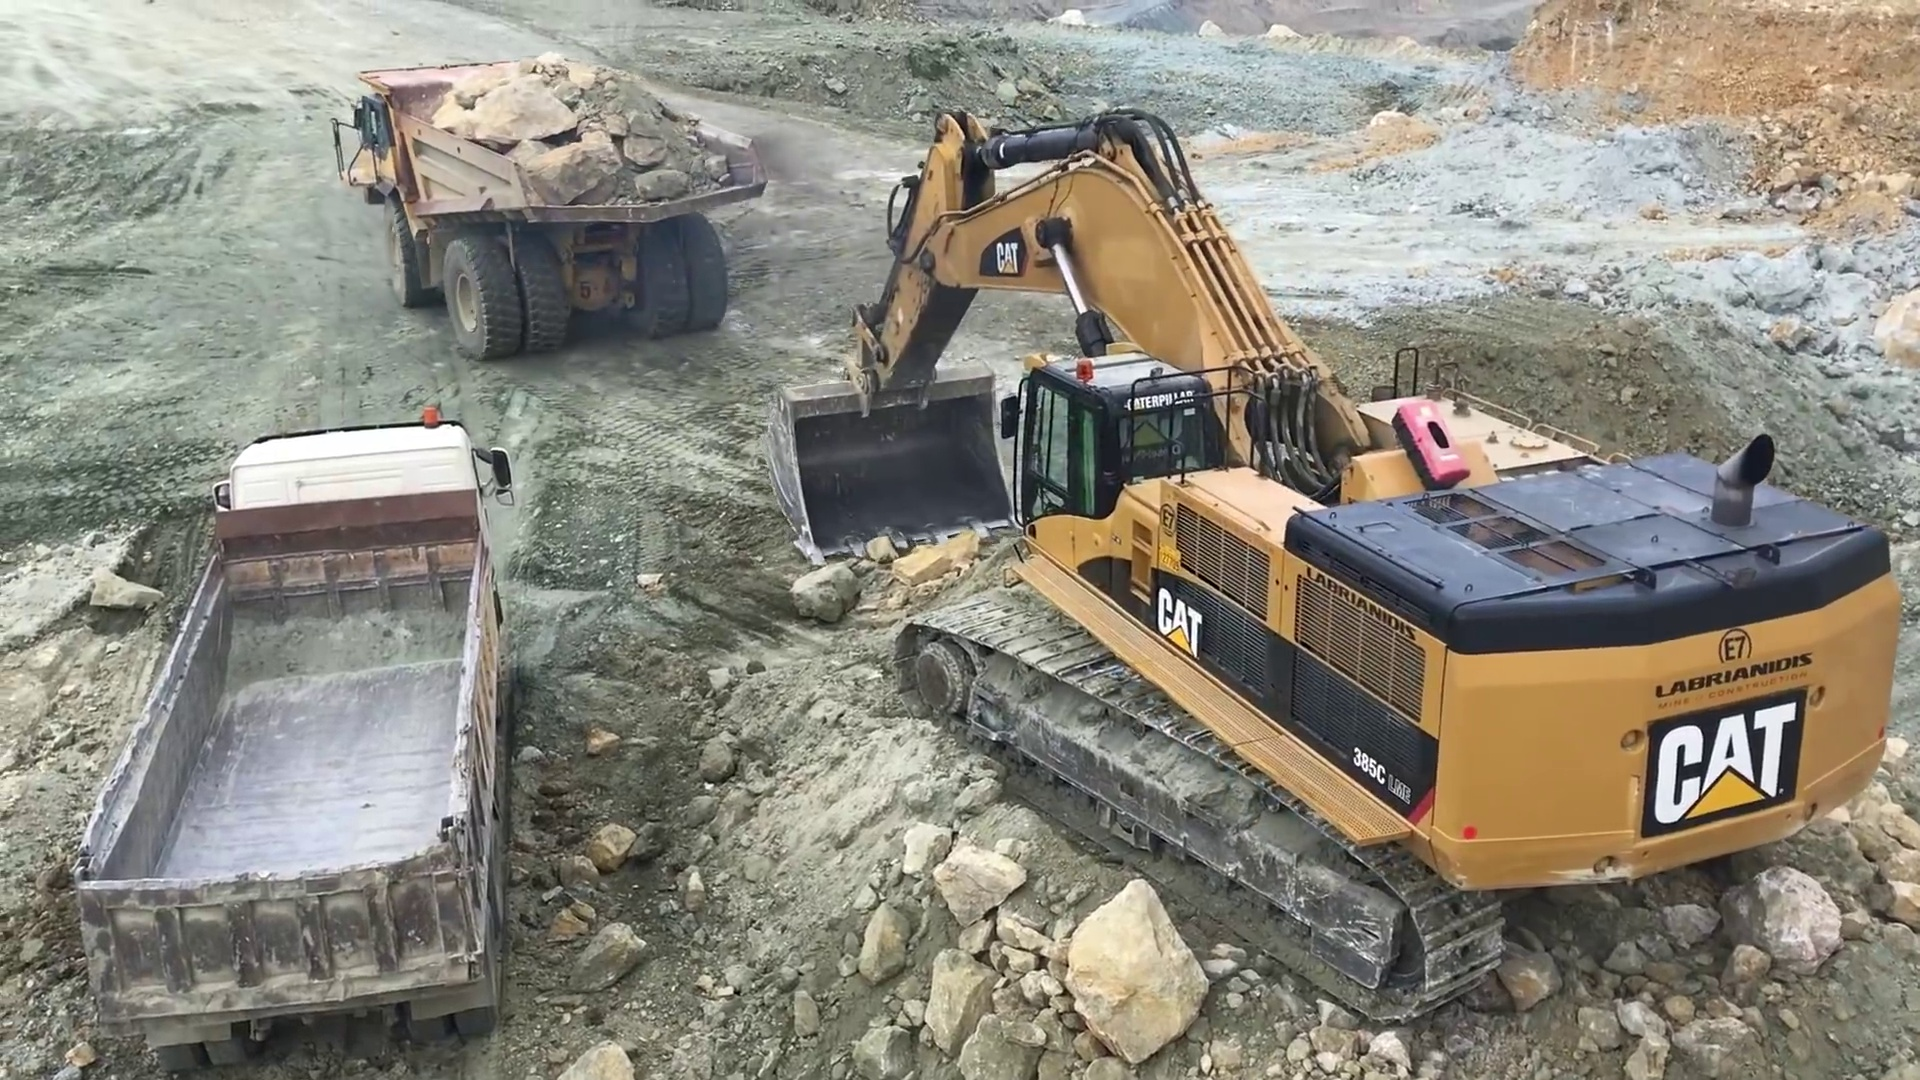dumper: (326, 58, 766, 328)
excavator: (771, 103, 1898, 1023)
truck: (71, 400, 534, 1072)
